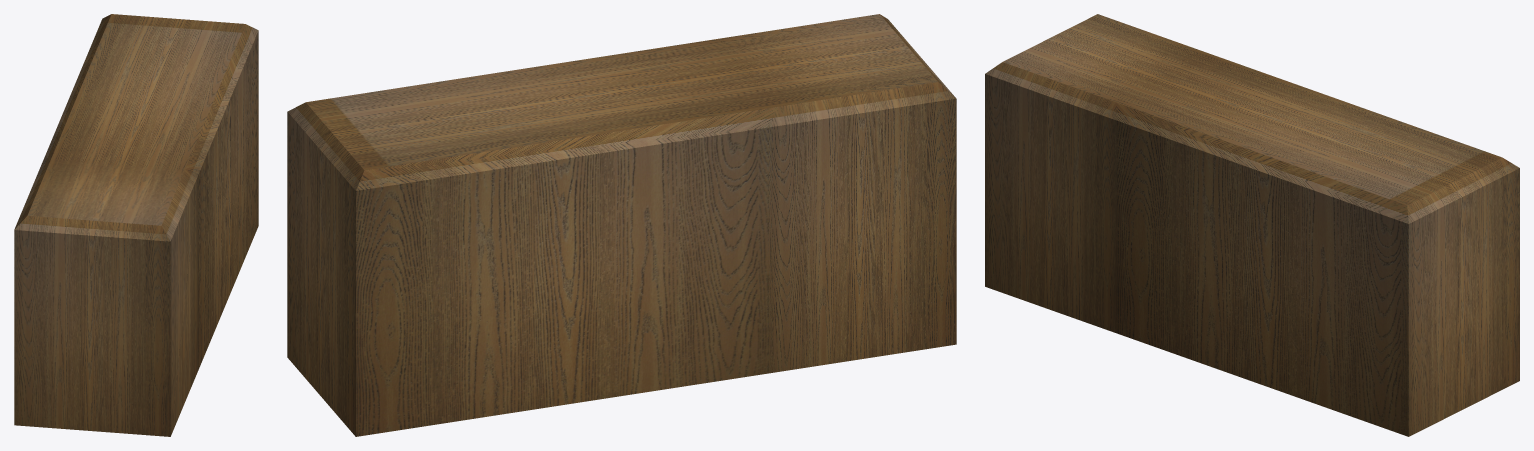
File: Obstacle_064.obj
3 views of the same model, side by side, from view 1: azimuth 30°, elevation 25°; view 2: azimuth 150°, elevation 25°; view 3: azimuth 270°, elevation 25° (orthographic). The views are drawn at different scales.
Parts seen in each view (by area): view 1: Box136; view 2: Box136; view 3: Box136.
Part boxes in pixels (x1,y1,x2,y2): Box136: (14,14,258,436); Box136: (287,14,956,436); Box136: (985,14,1519,436).
Bounding box in the file's own units: 77.74 × 39.37 × 85.2.
